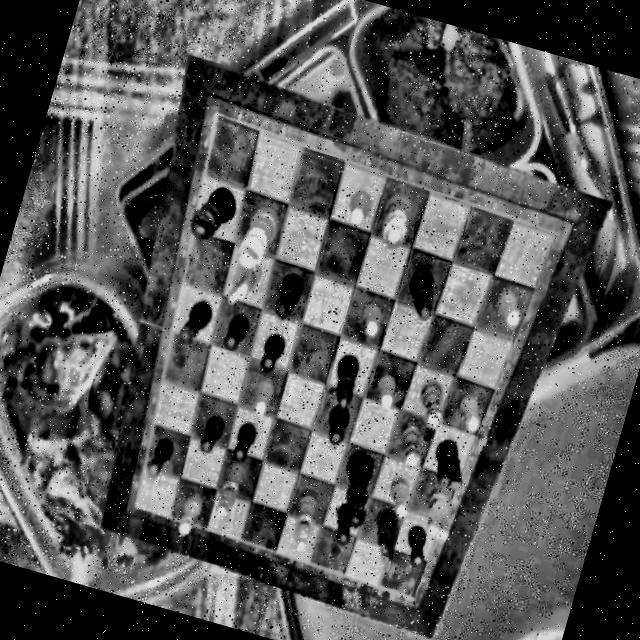black-bishop: (329, 351, 365, 410), (405, 268, 443, 320)
black-king: (191, 180, 246, 246)
black-knight: (428, 438, 472, 492), (367, 506, 406, 566)
black-pawn: (401, 522, 434, 568), (146, 434, 178, 480), (197, 412, 228, 457), (329, 498, 359, 544), (222, 312, 254, 354), (260, 332, 290, 375), (324, 403, 354, 446), (232, 421, 260, 464)
black-queen: (332, 448, 384, 531)
black-rook: (177, 297, 219, 351), (274, 270, 308, 322)
white-bishop: (213, 455, 253, 520), (284, 484, 322, 550)
white-king: (236, 201, 288, 274)
white-knight: (419, 485, 462, 539), (228, 254, 268, 310)
white-pawn: (491, 285, 529, 328), (454, 389, 490, 432), (384, 476, 417, 520), (177, 489, 206, 536), (251, 374, 280, 418), (372, 370, 403, 410), (348, 187, 378, 227), (357, 300, 387, 340)
white-queen: (376, 187, 421, 251)
white-rook: (414, 377, 456, 431), (394, 419, 432, 472)
